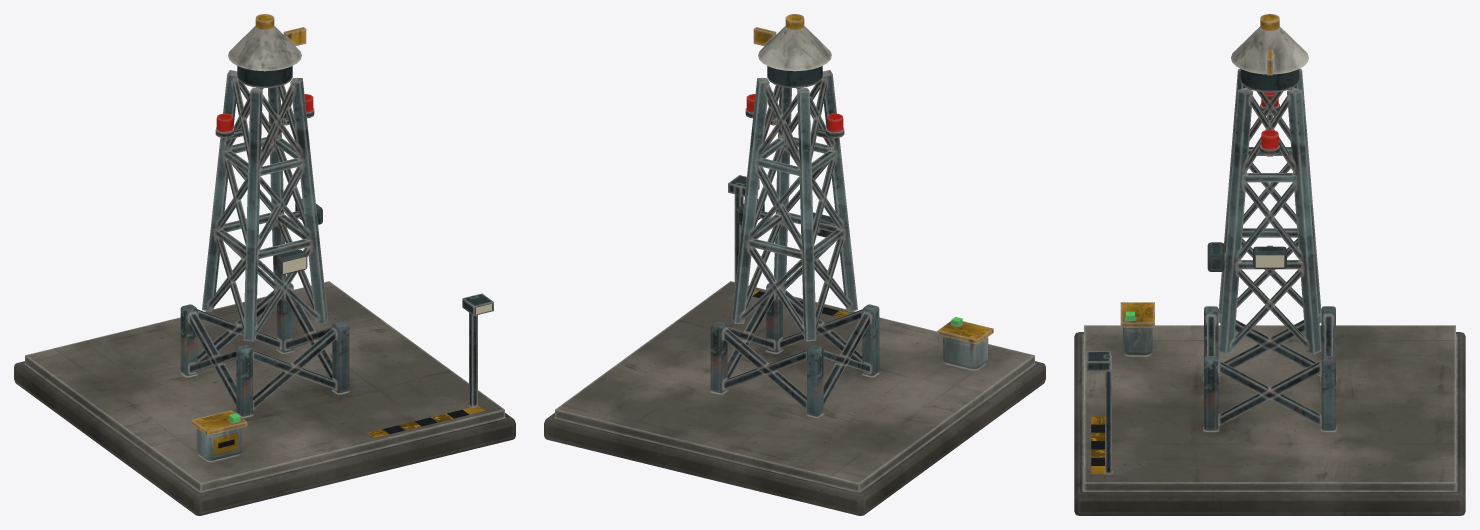
Rendered from planetary_sensor.glb.
3 views of the same model, side by side, from view 1: azimuth 30°, elevation 25°; view 2: azimuth 150°, elevation 25°; view 3: azimuth 270°, elevation 25° (orthographic). The views are drawn at different scales.
Visible parts, largest first — view 1: te_planetary_sensor, move_sensor; view 2: te_planetary_sensor, move_sensor; view 3: te_planetary_sensor, move_sensor.
Part boxes in pixels (<box>): te_planetary_sensor: <box>14,66,515,515</box>; move_sensor: <box>228,14,306,71</box>; te_planetary_sensor: <box>544,66,1045,515</box>; move_sensor: <box>753,14,831,71</box>; te_planetary_sensor: <box>1074,68,1465,515</box>; move_sensor: <box>1231,14,1308,75</box>.
Size of the model in its own units: 0.8 by 0.94 by 0.8.
1 material, 1 textured.
